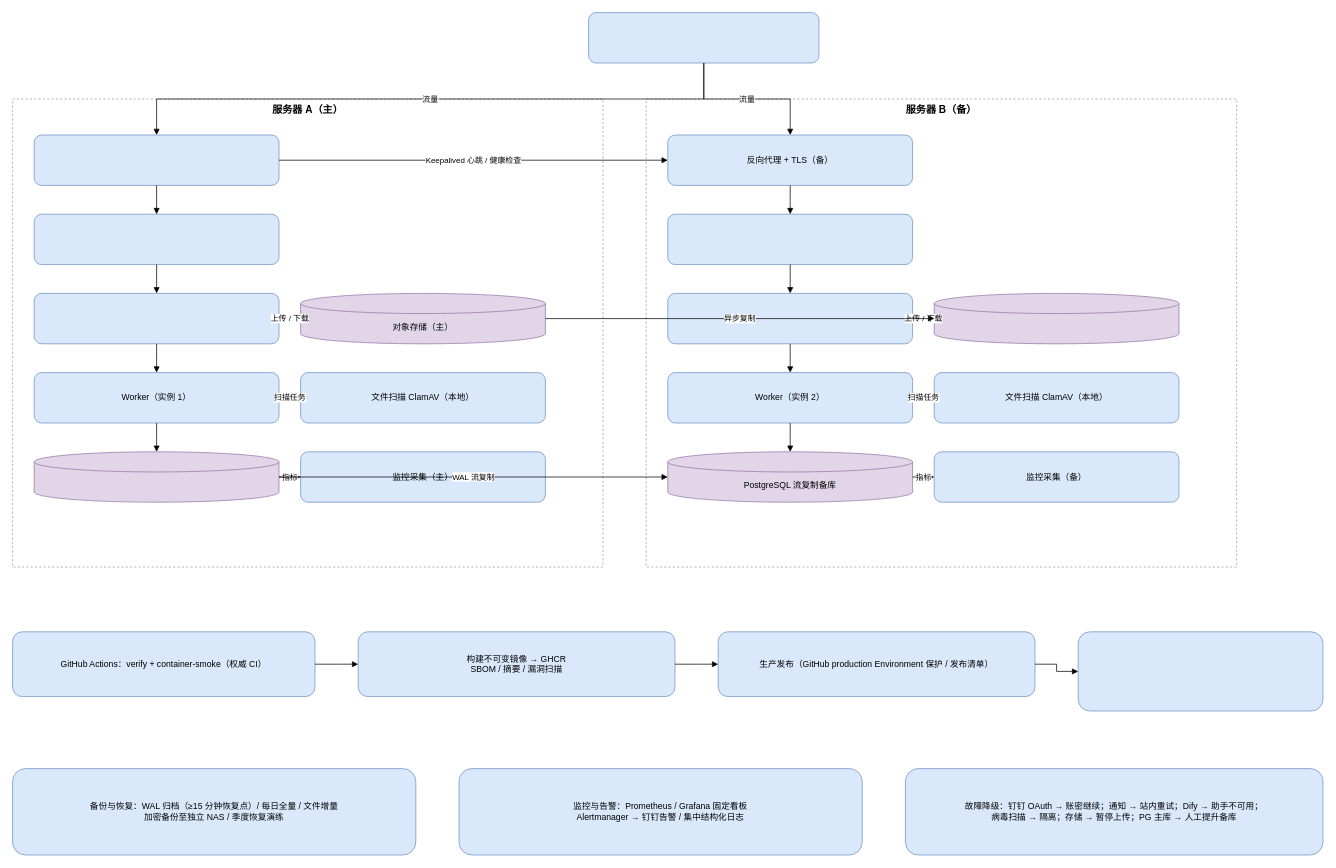
This 1336x868 diagram has some shape labels left out. Each missing label, with the box of its shape:
NestJS HTTP（实例 1）: (33, 293, 279, 344)
NestJS HTTP（实例 2）: (667, 293, 913, 344)
PostgreSQL 主库: (33, 451, 279, 502)
React 静态站（实例 1）: (33, 213, 279, 265)
React 静态站（实例 2）: (667, 213, 913, 265)
升级顺序：先备节点 → 验证 → 切流量 → 主节点 migration：expand → migrate → contract: (1077, 631, 1323, 711)
反向代理 + TLS: (33, 134, 279, 185)
对象存储（异步副本）: (933, 293, 1179, 344)
虚拟 IP（Keepalived / 内网 DNS 切换）: (588, 12, 819, 63)
